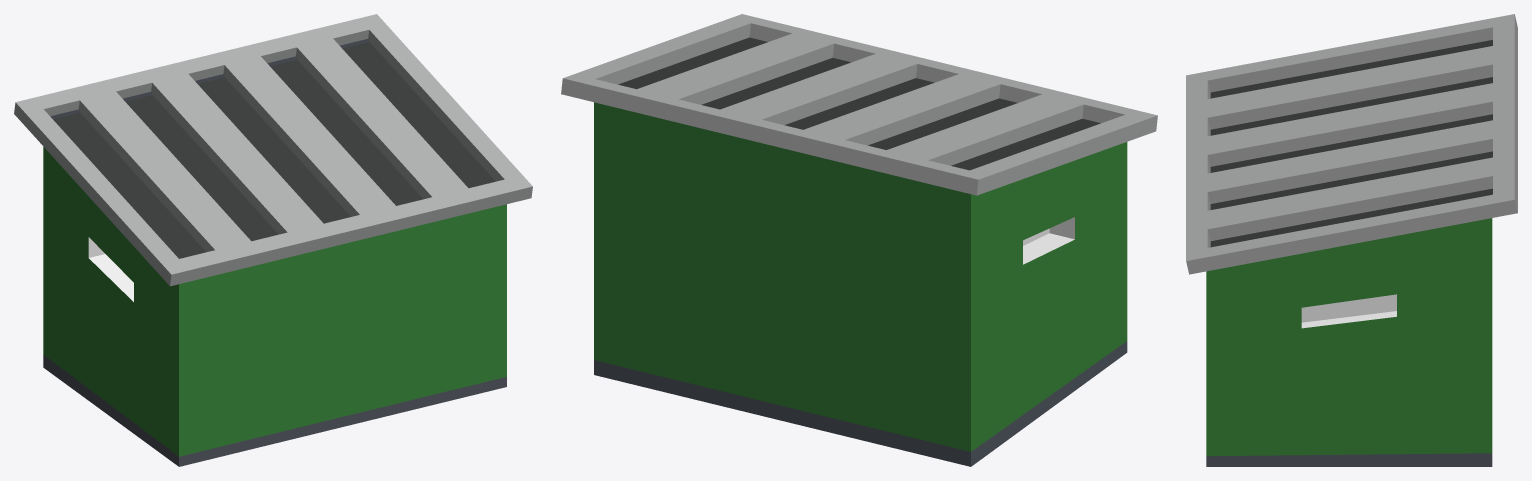
Rendered from dumpster.FBX.
3 renders of one model, left to right at view 1: azimuth 30°, elevation 25°; view 2: azimuth 150°, elevation 25°; view 3: azimuth 270°, elevation 25°, orthographic. The views are drawn at different scales.
Parts seen in each view (by area): view 1: dumpster; view 2: dumpster; view 3: dumpster.
Boxes of the visible parts, x1,y1,x2,y2 form: dumpster: [14, 14, 532, 466]; dumpster: [561, 14, 1157, 466]; dumpster: [1186, 14, 1517, 466].
Size of the model in its own units: 5.8 by 4.01 by 4.38.
